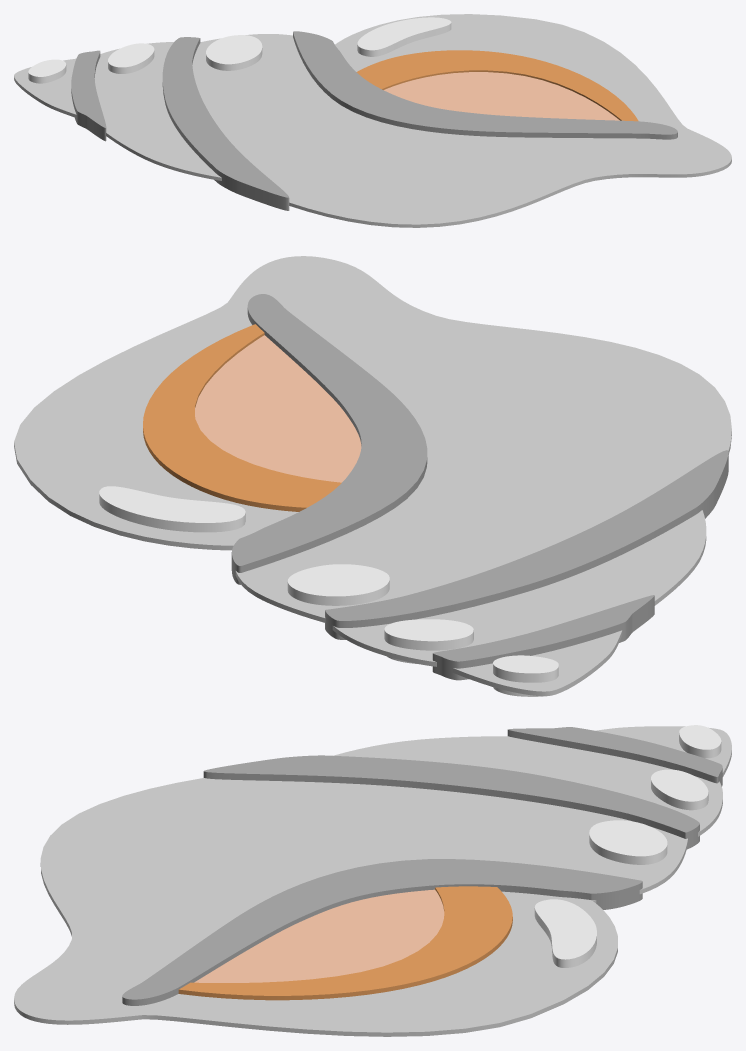
The model's file is emoji_u1f41a.glb.
3 renders of one model, top to bottom at view 1: azimuth 30°, elevation 25°; view 2: azimuth 150°, elevation 25°; view 3: azimuth 270°, elevation 25°, orthographic. The views are drawn at different scales.
Parts seen in each view (by area): view 1: emoji_u1f41a; view 2: emoji_u1f41a; view 3: emoji_u1f41a.
Part boxes in pixels (x1,y1,x2,y2): emoji_u1f41a: (14, 14, 731, 227); emoji_u1f41a: (14, 256, 731, 696); emoji_u1f41a: (14, 725, 731, 1036).
Size of the model in its own units: 0.0306 by 0.001 by 0.0303.
